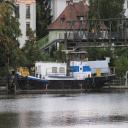tugboat: (7, 50, 118, 95)
